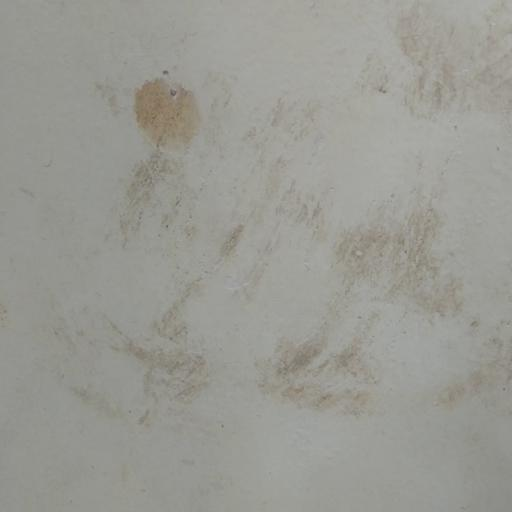stain: (86, 71, 512, 450)
